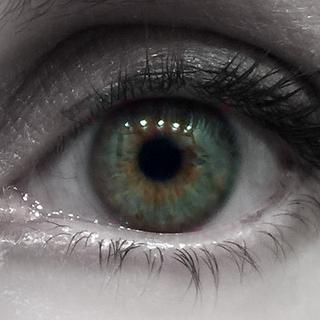pupil: (137, 138, 181, 182)
